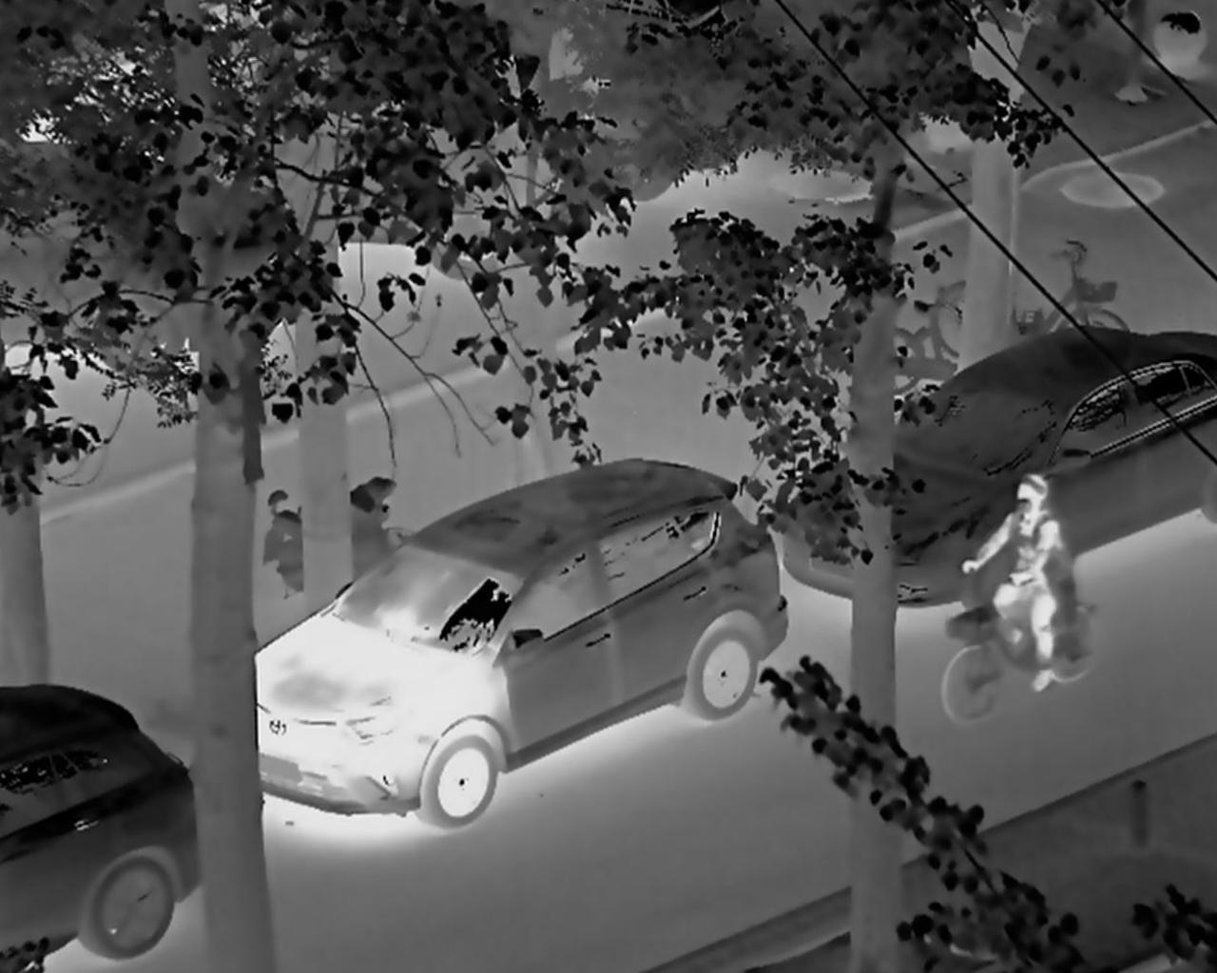person: (964, 466, 1085, 711)
